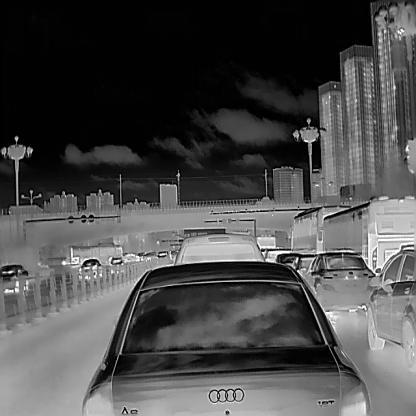car: (79, 259, 371, 416), (316, 193, 416, 279), (366, 246, 416, 372), (304, 250, 377, 319), (287, 203, 354, 254), (171, 233, 265, 266), (69, 243, 124, 266), (0, 262, 29, 293), (291, 251, 320, 275), (274, 250, 303, 270), (77, 258, 103, 280), (259, 246, 292, 262), (255, 234, 276, 255), (110, 256, 125, 273), (122, 250, 139, 262), (142, 250, 157, 261), (136, 250, 147, 261), (156, 250, 168, 258)
